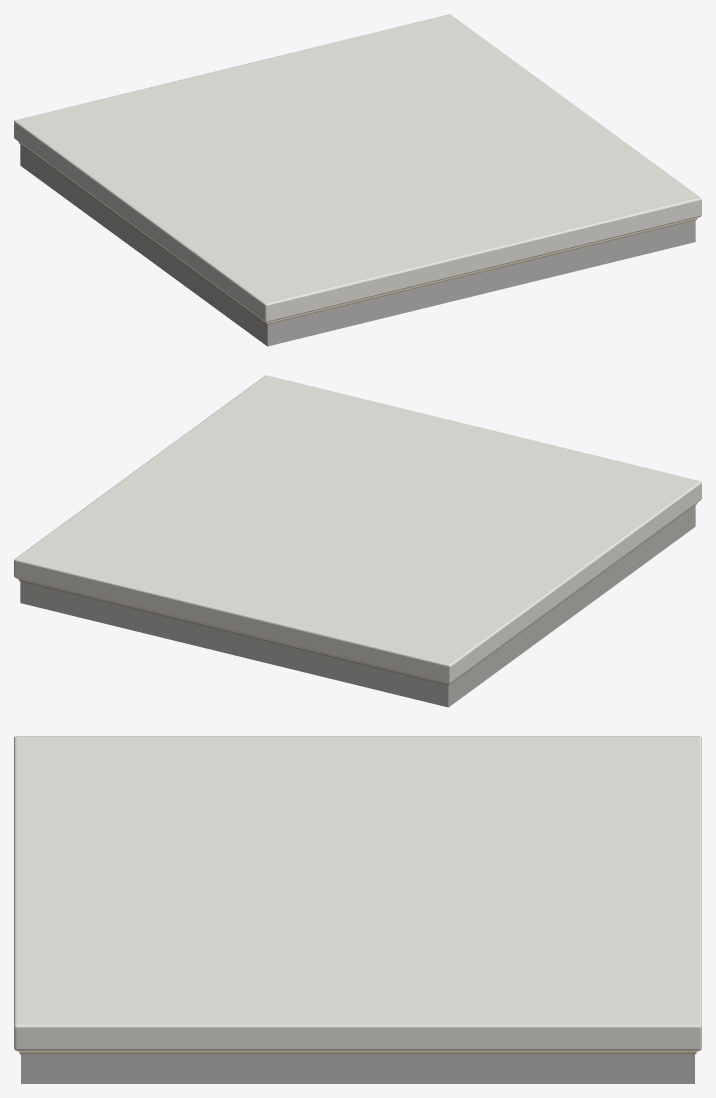
Rendered from comfortfloor.glb.
The picture shows the model from 3 angles, top to bottom: view 1: azimuth 30°, elevation 25°; view 2: azimuth 150°, elevation 25°; view 3: azimuth 270°, elevation 25°; orthographic projection. The views are drawn at different scales.
Parts seen in each view (by area): view 1: body.001, mesh-layer.001; view 2: body.001, mesh-layer.001; view 3: body.001, mesh-layer.001.
Part boxes in pixels (x1,y1,x2,y2): body.001: [14, 14, 701, 322]; mesh-layer.001: [18, 141, 699, 346]; body.001: [14, 375, 701, 683]; mesh-layer.001: [16, 502, 697, 707]; body.001: [14, 736, 701, 1050]; mesh-layer.001: [16, 1050, 699, 1083].
Size of the model in its own units: 0.297 by 0.029 by 0.297.
2 materials, 1 textured.
